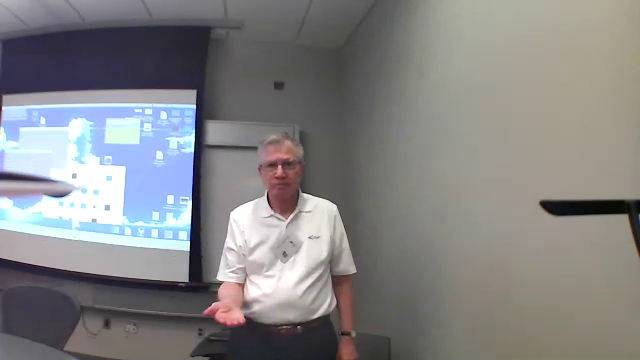land: (201, 298, 252, 332)
